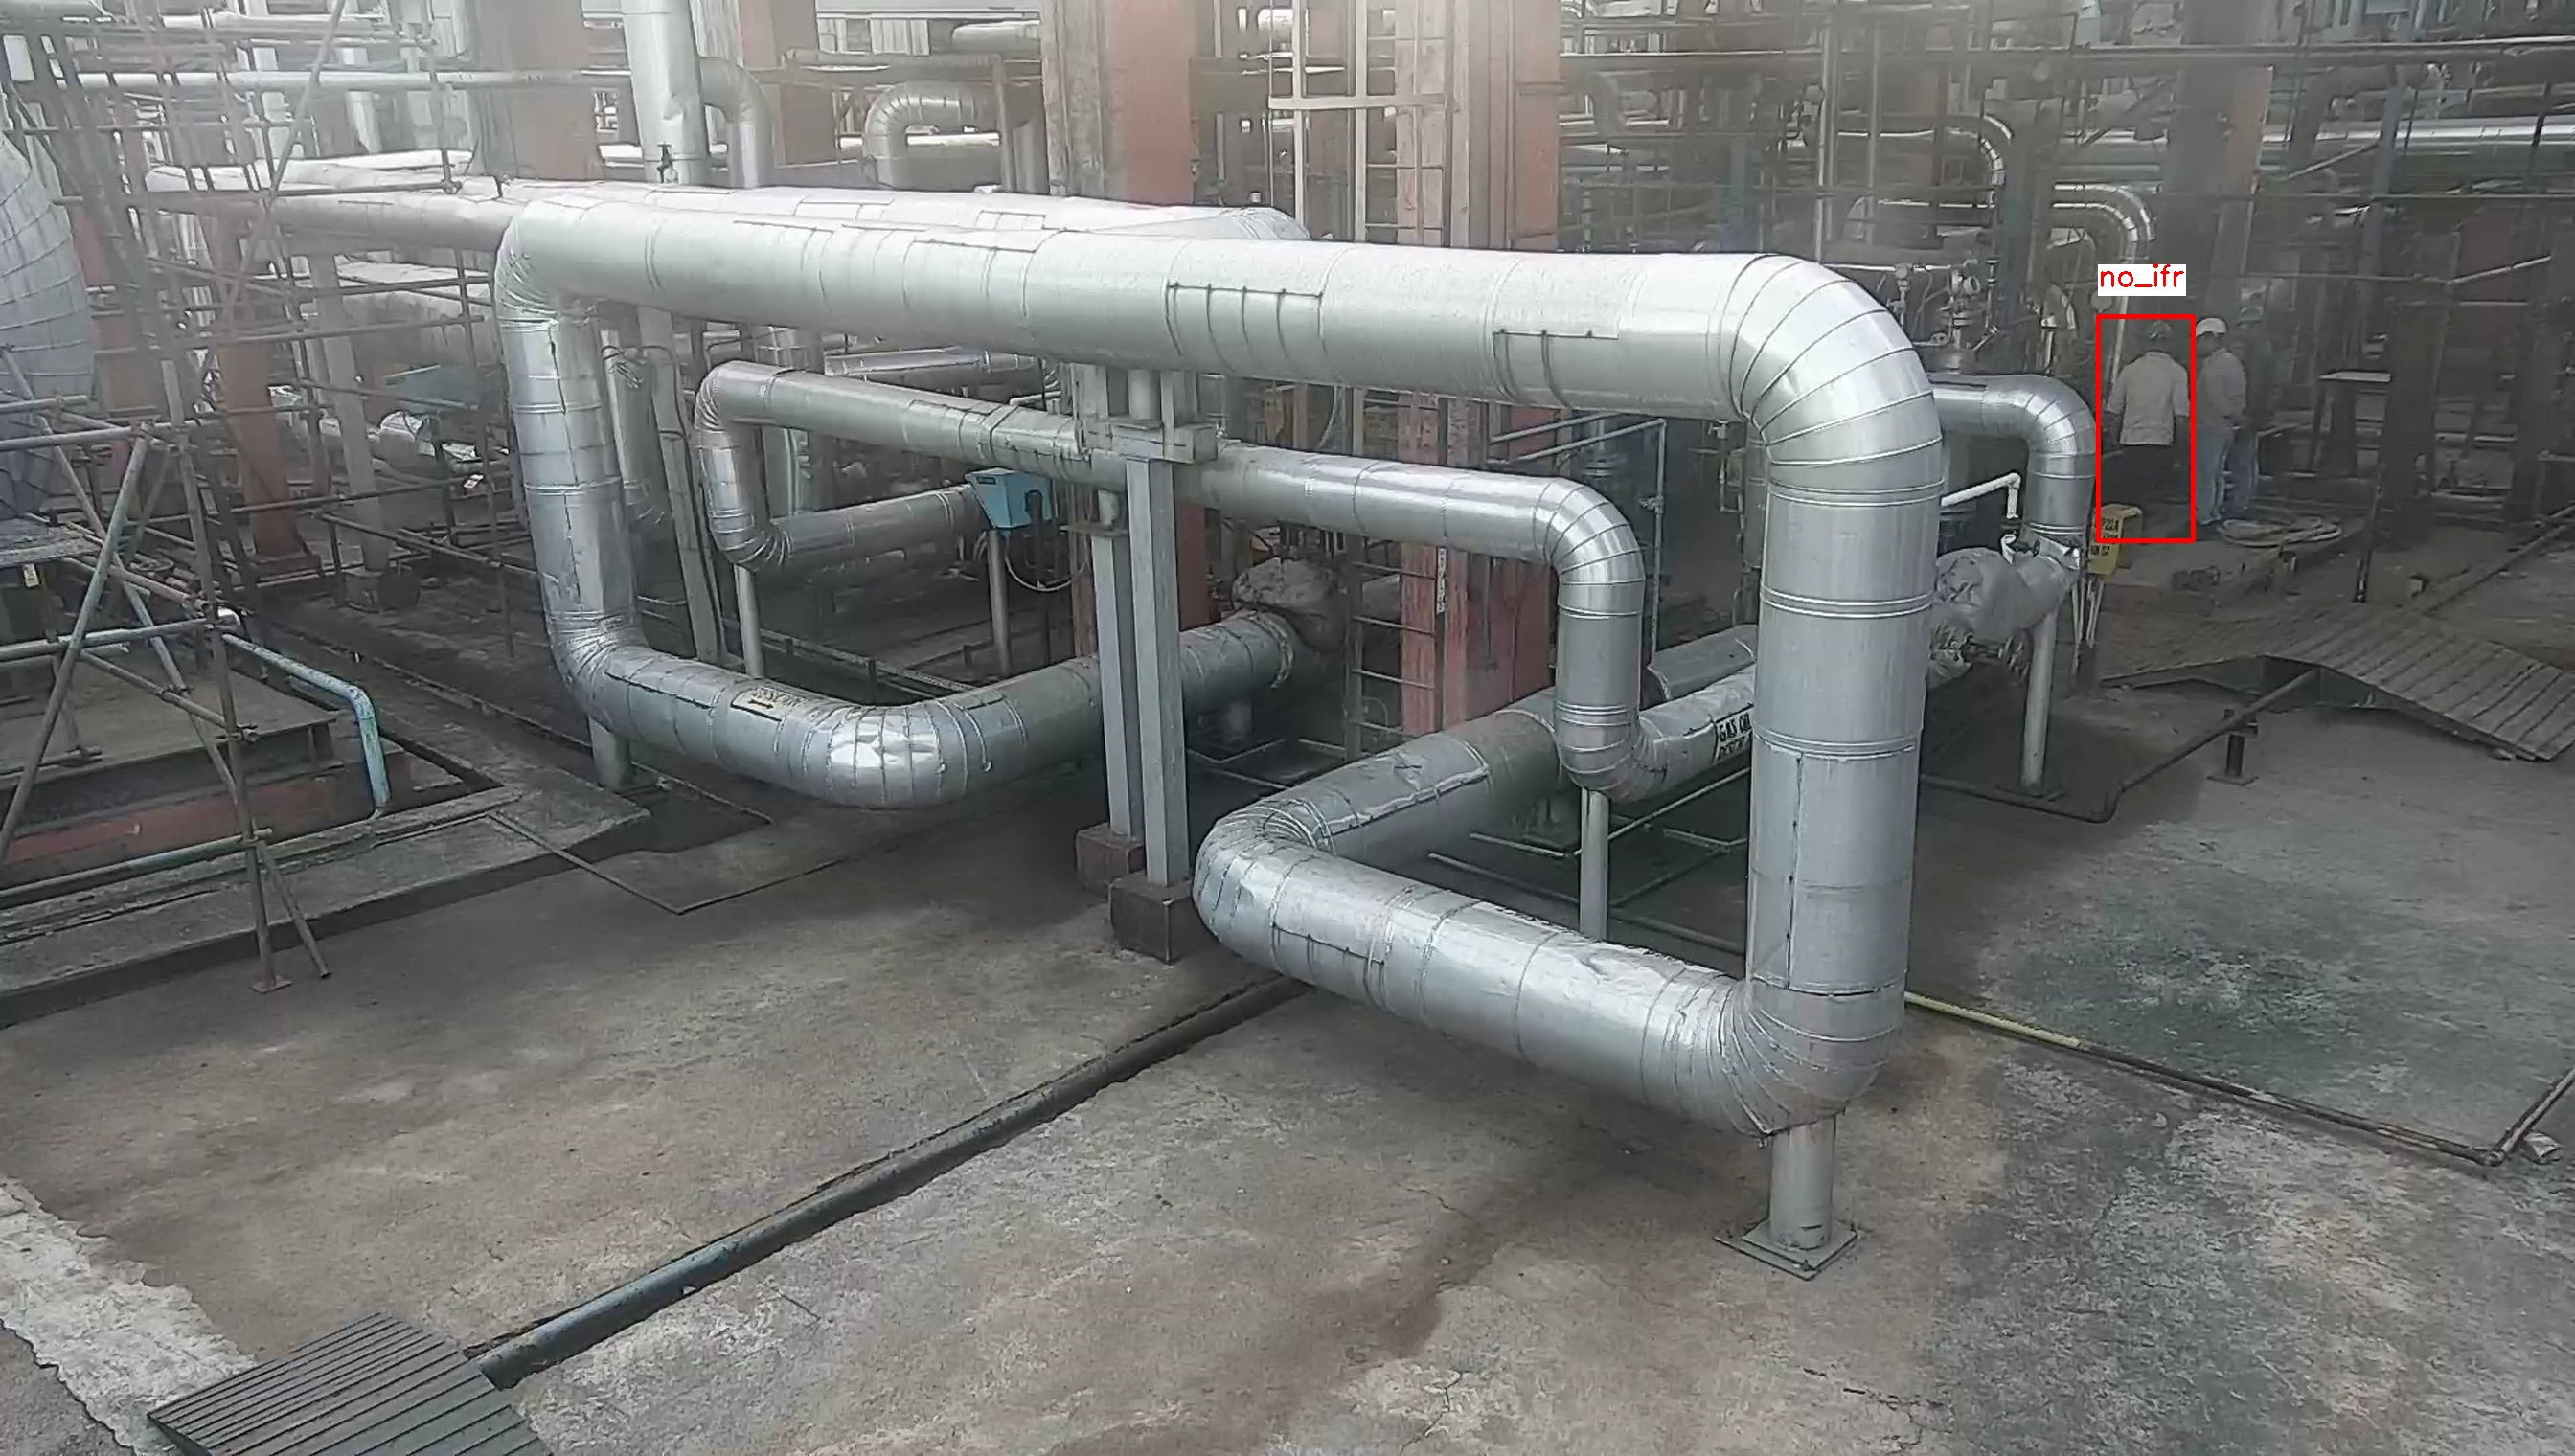Helmets: (2193, 313, 2235, 340)
